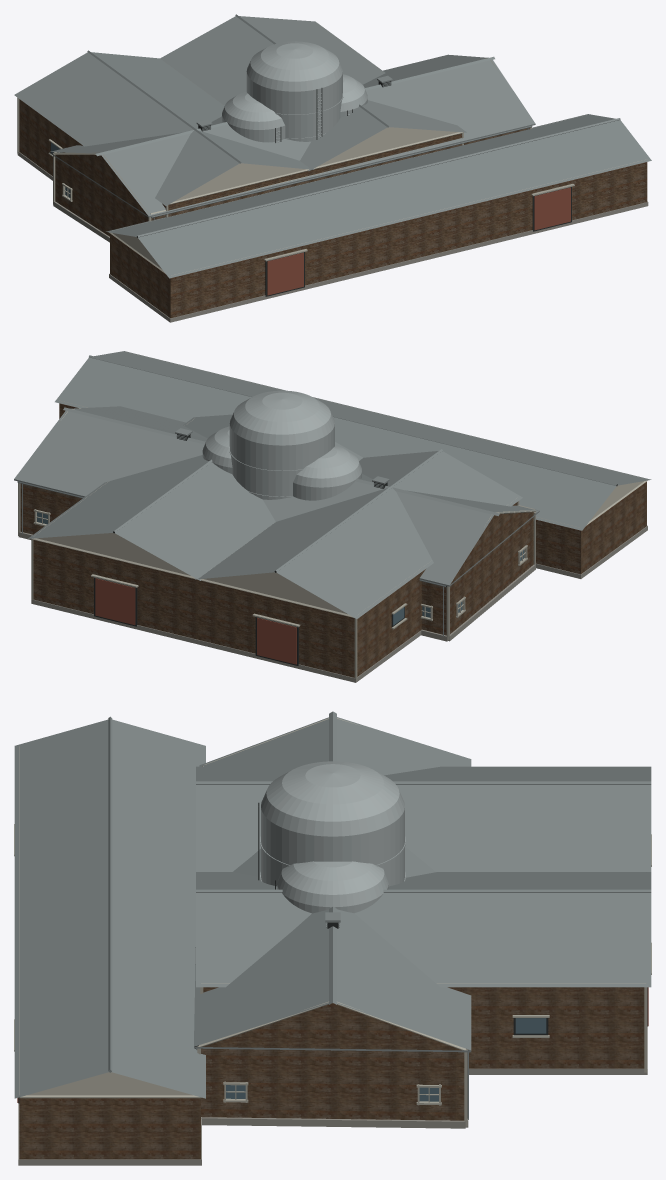
The model's file is valley-farm-low.glb.
3 renders of one model, top to bottom at view 1: azimuth 30°, elevation 25°; view 2: azimuth 150°, elevation 25°; view 3: azimuth 270°, elevation 25°, orthographic. The views are drawn at different scales.
Parts seen in each view (by area): view 1: contour-dairy roof, contour-dairy siding, north-farm-barn roof, contour-tall-silo silo, north-farm-barn siding, contour-dairy paint, contour-twin-silos silo, contour-dairy stone, contour-dairy door, contour-dairy trim, north-farm-barn trim, contour-dairy dark; view 2: contour-dairy roof, contour-dairy siding, north-farm-barn roof, contour-tall-silo silo, north-farm-barn siding, contour-dairy paint, contour-twin-silos silo, contour-dairy door, contour-dairy stone, contour-dairy trim, north-farm-barn trim, north-farm-barn stone (+1 smaller); view 3: contour-dairy roof, north-farm-barn roof, contour-dairy siding, north-farm-barn siding, contour-tall-silo silo, contour-twin-silos silo, contour-dairy stone, north-farm-barn stone, contour-dairy paint, contour-dairy trim, north-farm-barn trim.
Boxes of the visible parts, x1,y1,x2,y2 form: contour-dairy roof: (14,14,651,278); contour-dairy siding: (19,99,647,318); north-farm-barn roof: (49,54,535,220); contour-tall-silo silo: (246,41,343,141); north-farm-barn siding: (55,128,529,236); contour-dairy paint: (113,127,458,268); contour-twin-silos silo: (222,74,367,142); contour-dairy stone: (17,152,648,322); contour-dairy door: (267,187,570,295); contour-dairy trim: (17,27,645,275); north-farm-barn trim: (52,57,531,221); contour-dairy dark: (50,142,571,296); contour-dairy roof: (28,351,651,618); contour-dairy siding: (33,403,646,677); north-farm-barn roof: (14,406,539,636); contour-tall-silo silo: (229,390,334,499); north-farm-barn siding: (20,483,533,635); contour-dairy paint: (37,481,643,614); contour-twin-silos silo: (202,426,361,500); contour-dairy door: (95,578,296,664); contour-dairy stone: (31,525,647,682); contour-dairy trim: (31,355,647,681); north-farm-barn trim: (18,408,536,640); north-farm-barn stone: (18,531,535,641); contour-dairy roof: (14,716,651,1098); north-farm-barn roof: (194,711,471,1119); contour-dairy siding: (19,987,644,1159); north-farm-barn siding: (201,1003,464,1120); contour-tall-silo silo: (260,761,405,886); contour-twin-silos silo: (277,861,388,913); contour-dairy stone: (18,1027,647,1165); north-farm-barn stone: (201,1117,468,1128); contour-dairy paint: (27,1072,192,1095); contour-dairy trim: (14,746,651,1098); north-farm-barn trim: (197,718,468,1126).
Size of the model in its own units: 50.6 by 14.11 by 38.66.
Materials: 10 (1 with a texture image).
